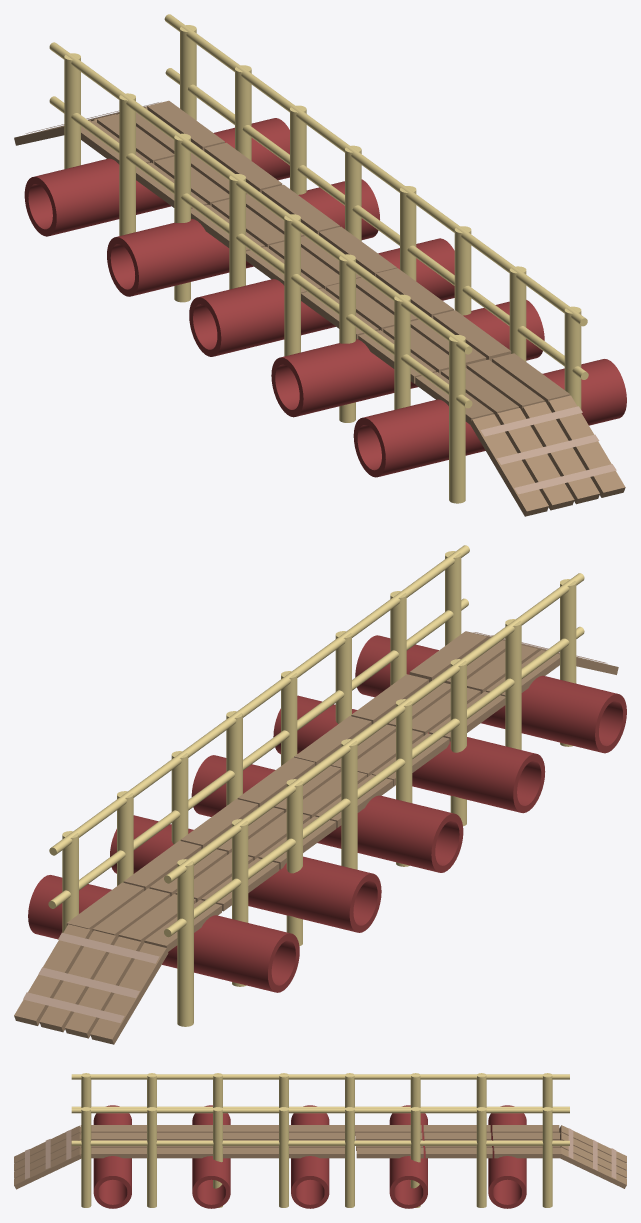
Rendered from pontoon.glb.
The picture shows the model from 3 angles, top to bottom: view 1: azimuth 30°, elevation 25°; view 2: azimuth 150°, elevation 25°; view 3: azimuth 270°, elevation 25°; orthographic projection. The views are drawn at different scales.
Parts seen in each view (by area): view 1: Cylinder.004; view 2: Cylinder.004; view 3: Cylinder.004.
Boxes of the visible parts, left/top/right/bottom form: Cylinder.004: left=14, top=14, right=626, bottom=516; Cylinder.004: left=14, top=545, right=626, bottom=1044; Cylinder.004: left=14, top=1073, right=626, bottom=1208.
Bounding box in the file's own units: 5.61 × 3.61 × 20.6.
